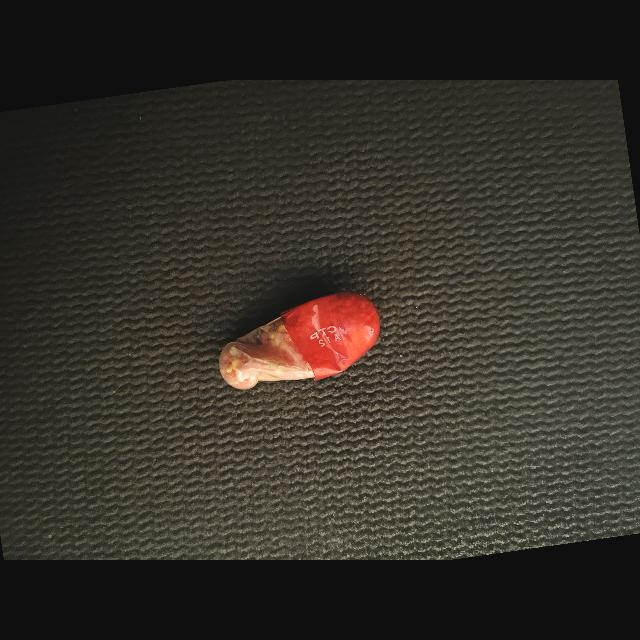Defective Capsule: (219, 292, 380, 389)
